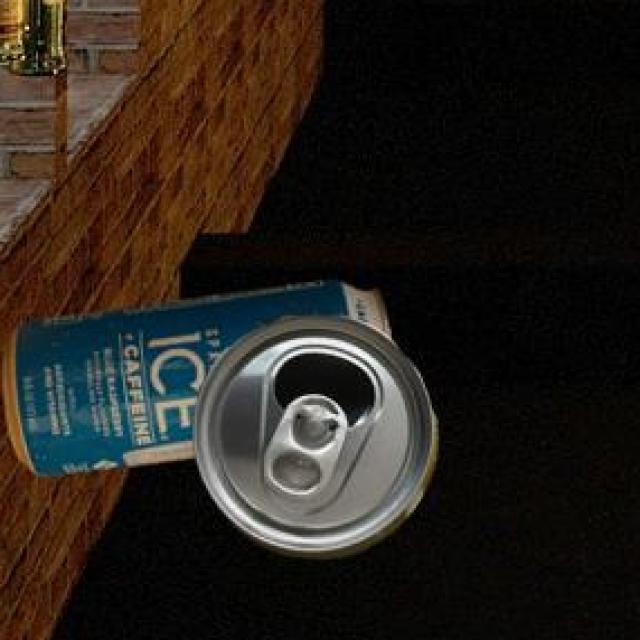logam: (6, 283, 395, 480), (198, 319, 442, 563)
